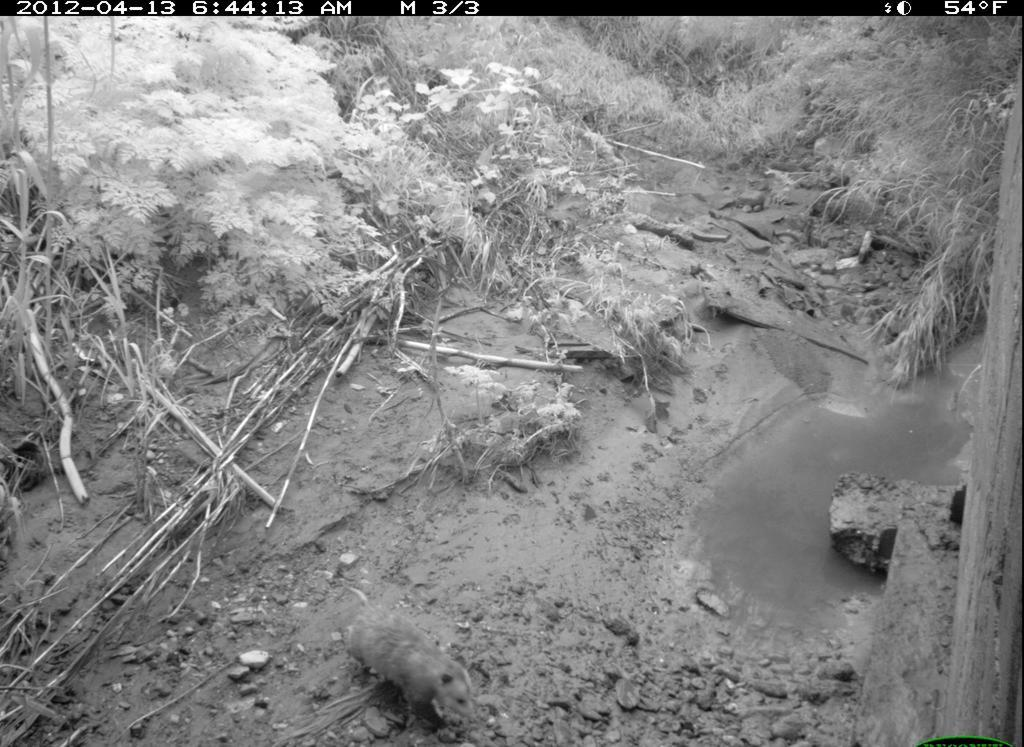opossum: (326, 598, 498, 740)
